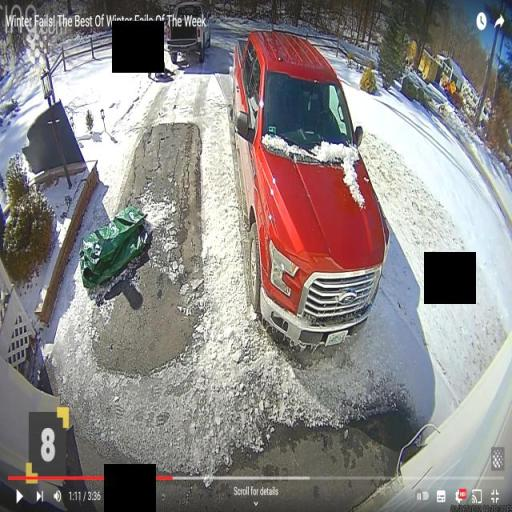Fall: (147, 50, 176, 81)
